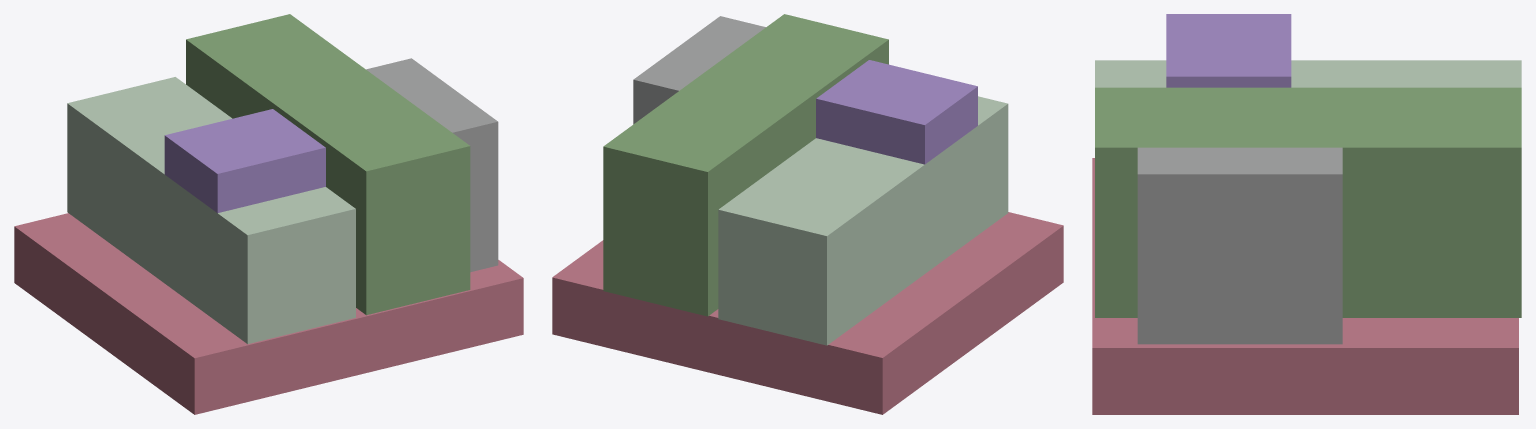
3 renders of one model, left to right at view 1: azimuth 30°, elevation 25°; view 2: azimuth 150°, elevation 25°; view 3: azimuth 270°, elevation 25°, orthographic. The views are drawn at different scales.
Parts seen in each view (by area): view 1: world; view 2: world; view 3: world.
Boxes of the visible parts, x1,y1,x2,y2 form: world: (14, 14, 523, 414); world: (552, 14, 1063, 414); world: (1092, 14, 1521, 414).
Bounding box in the file's own units: 7.9 × 4.7 × 7.55.
